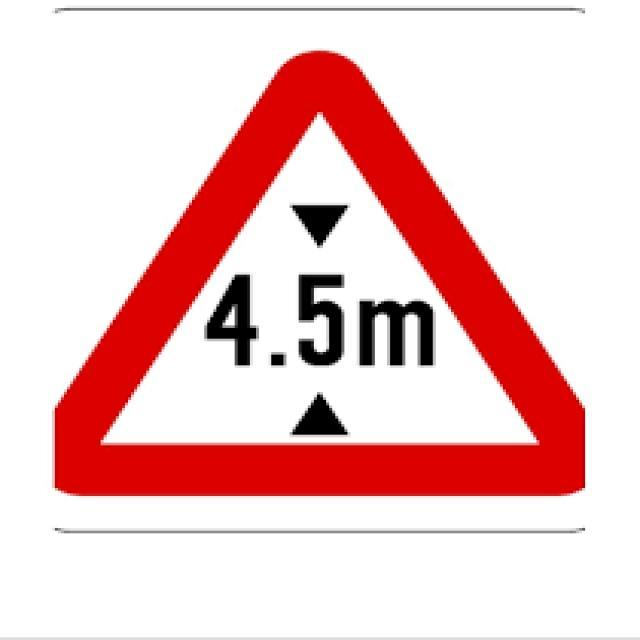height limit: (60, 48, 591, 502)
